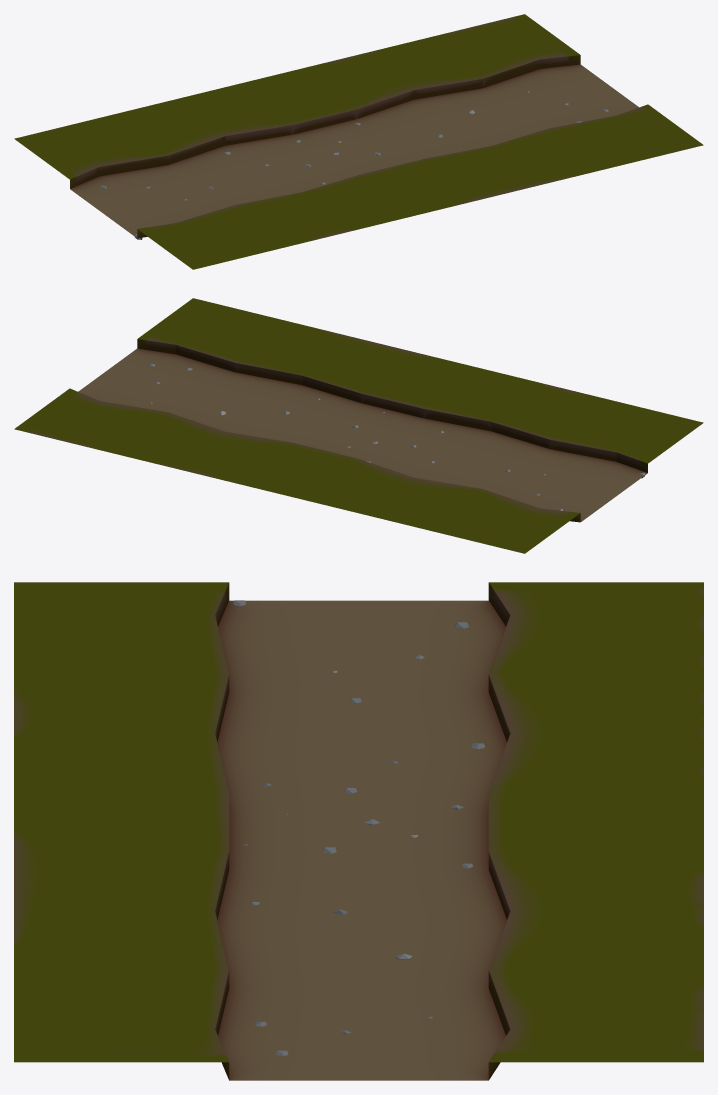
Rendered from yerO2.fbx.
3 renders of one model, top to bottom at view 1: azimuth 30°, elevation 25°; view 2: azimuth 150°, elevation 25°; view 3: azimuth 270°, elevation 25°, orthographic. The views are drawn at different scales.
Visible parts, largest first — view 1: Plane.005; view 2: Plane.005; view 3: Plane.005.
Boxes of the visible parts, x1,y1,x2,y2 form: Plane.005: (14,14,703,269); Plane.005: (14,298,703,553); Plane.005: (14,582,703,1080).
Size of the model in its own units: 2197 by 61.67 by 1335.
Materials: 1 (1 with a texture image).
